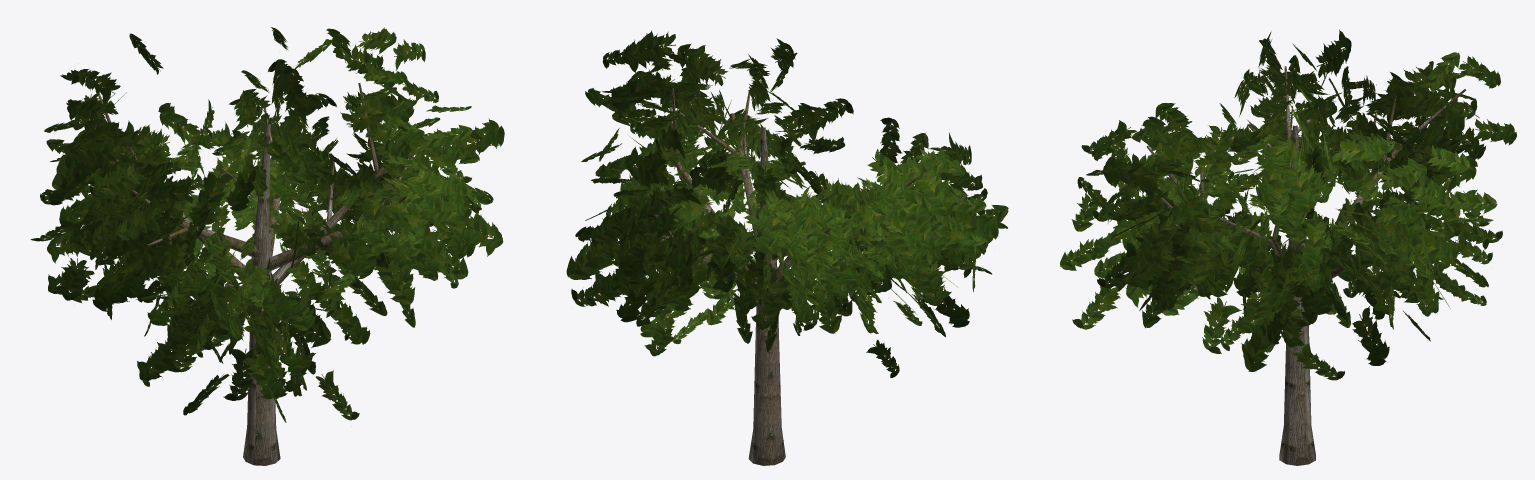
File: tree_2.glb
3 renders of one model, left to right at view 1: azimuth 30°, elevation 25°; view 2: azimuth 150°, elevation 25°; view 3: azimuth 270°, elevation 25°, orthographic. The views are drawn at different scales.
Visible parts, largest first — view 1: Tree; view 2: Tree; view 3: Tree.
Part boxes in pixels (x1,y1,x2,y2): Tree: [30, 27, 504, 465]; Tree: [566, 30, 1008, 465]; Tree: [1060, 29, 1516, 465].
Bounding box in the file's own units: 9.4 × 8.26 × 8.38.
Materials: 2 (2 with a texture image).
